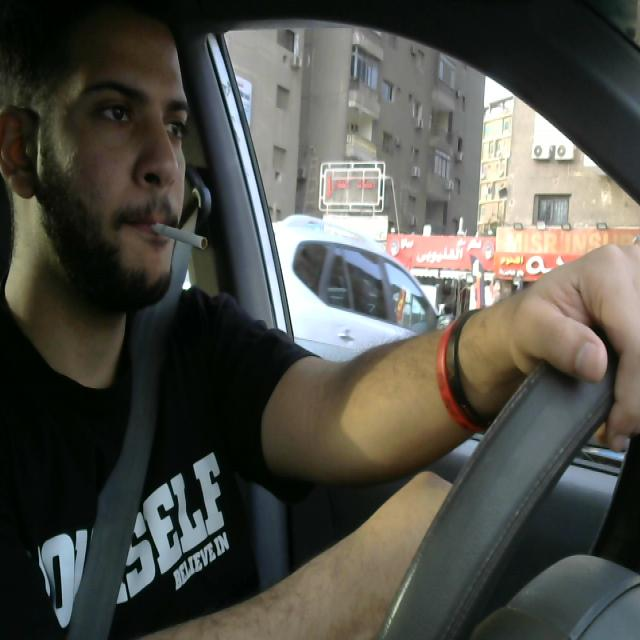smoking: (150, 206, 215, 272)
